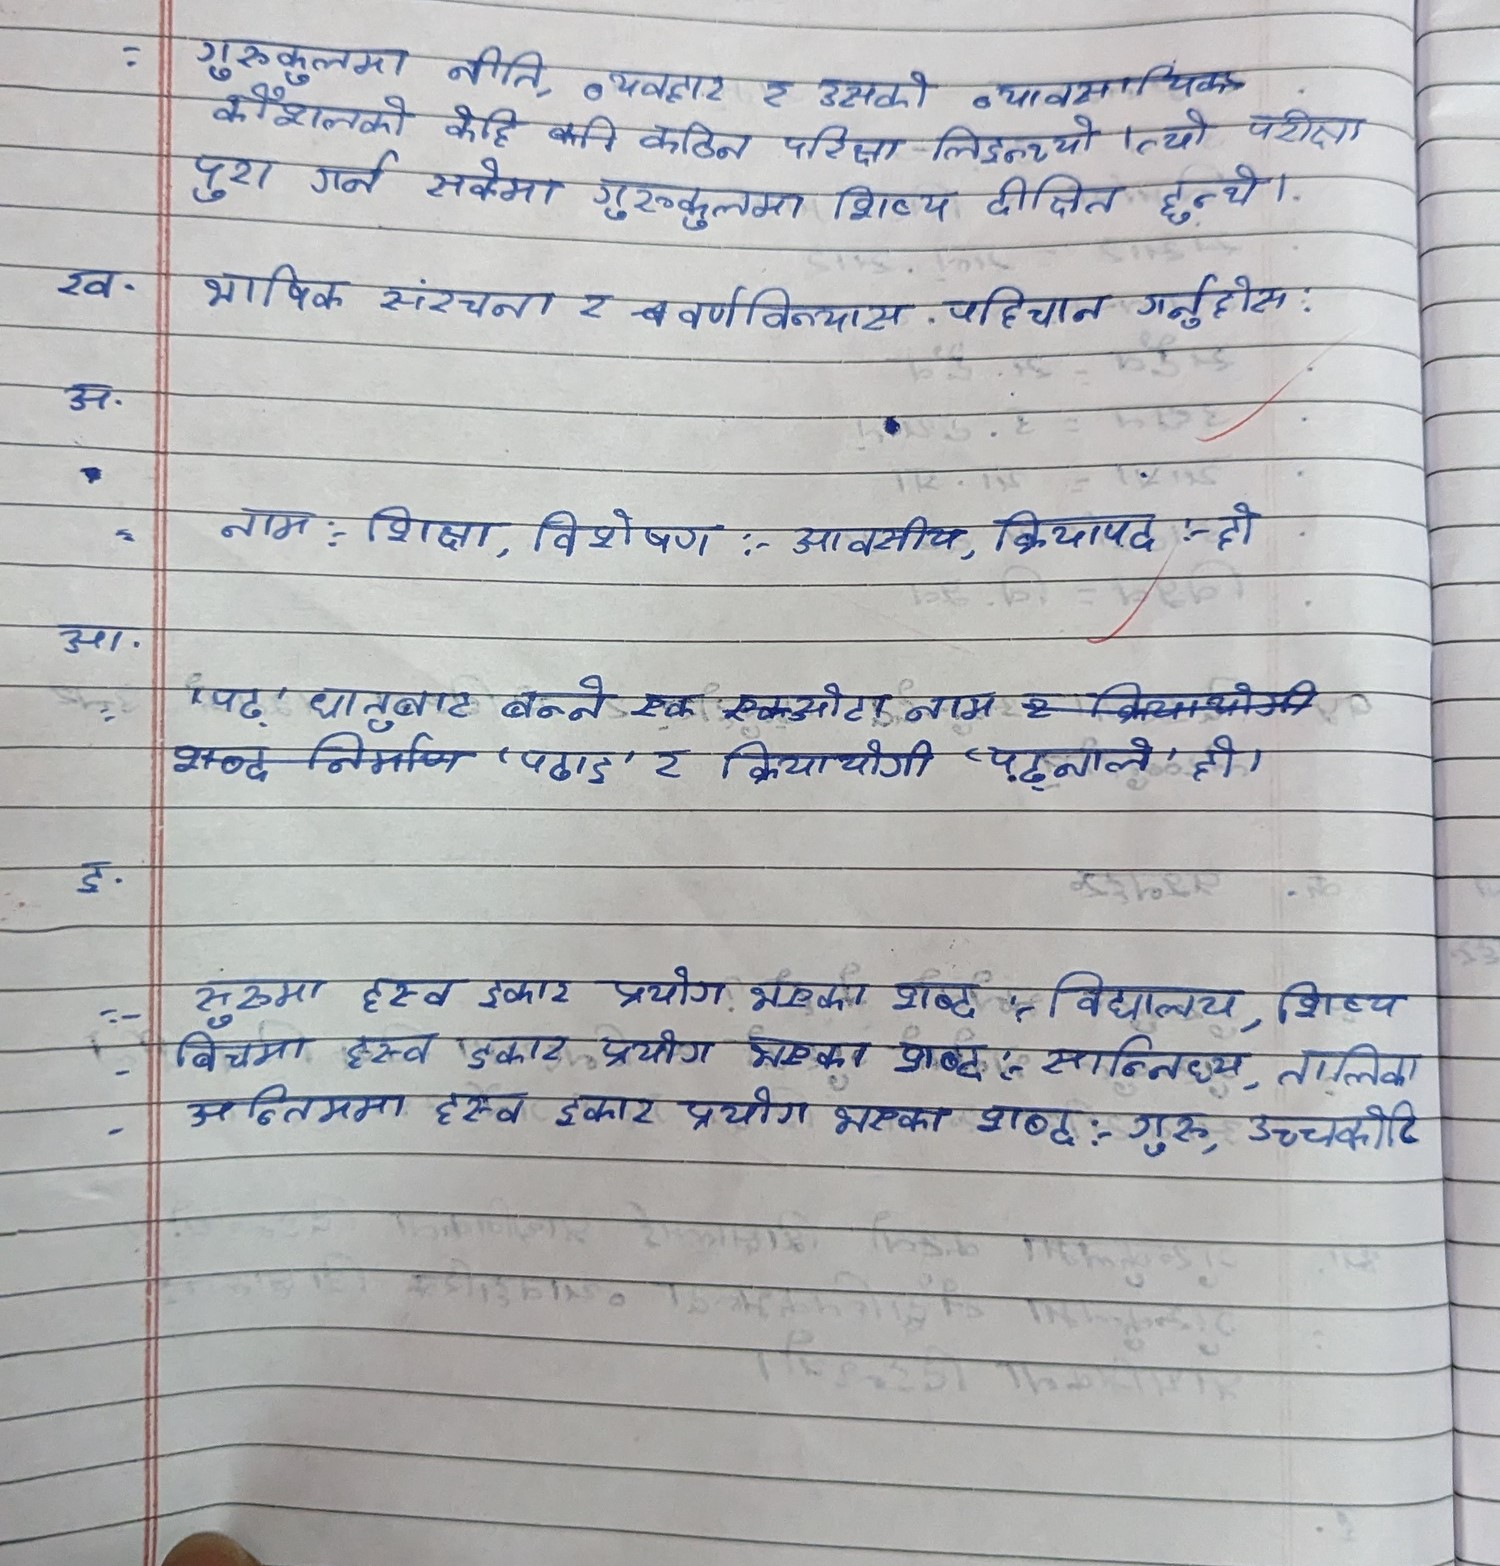text: (670, 274, 918, 338), (1033, 956, 1243, 1030), (180, 20, 426, 82), (587, 173, 807, 238), (959, 57, 1253, 105), (1076, 673, 1336, 721), (164, 951, 330, 1026), (717, 734, 946, 789), (531, 503, 719, 569), (369, 268, 561, 331), (214, 80, 407, 141), (193, 253, 351, 324), (986, 502, 1160, 565), (303, 671, 481, 733), (1036, 1035, 1247, 1085), (180, 1079, 410, 1126), (1241, 1098, 1427, 1154), (774, 508, 963, 561), (419, 150, 568, 217), (1137, 266, 1293, 329), (990, 733, 1158, 791), (925, 112, 1107, 165), (727, 671, 895, 728), (1261, 970, 1420, 1030), (1271, 1033, 1426, 1089), (678, 1088, 812, 1148), (941, 282, 1116, 329), (168, 1023, 315, 1077), (607, 956, 735, 1017), (309, 730, 468, 777), (963, 1096, 1086, 1158), (981, 171, 1130, 220), (598, 1015, 726, 1070), (1162, 162, 1267, 227), (741, 1029, 882, 1077), (1117, 1100, 1219, 1165), (811, 57, 931, 112), (544, 1089, 667, 1142), (823, 180, 960, 228), (187, 145, 288, 208), (496, 670, 610, 726), (1241, 105, 1378, 151), (783, 115, 906, 165), (886, 969, 987, 1030), (356, 508, 489, 554), (309, 148, 407, 210), (747, 968, 884, 1011), (828, 1091, 952, 1138), (162, 742, 287, 789), (583, 64, 728, 103), (514, 742, 621, 794), (644, 113, 756, 162), (447, 36, 542, 94), (903, 677, 1008, 728), (215, 499, 323, 549), (473, 973, 596, 1017), (334, 1022, 433, 1074), (889, 1037, 988, 1089), (463, 1030, 575, 1071), (432, 1086, 528, 1133), (351, 975, 454, 1015), (1137, 102, 1212, 155), (197, 667, 274, 719), (628, 680, 705, 730), (56, 612, 136, 656), (447, 101, 519, 148), (1213, 494, 1267, 555), (50, 254, 116, 303), (66, 847, 126, 898), (1185, 733, 1237, 789), (60, 369, 119, 417), (756, 62, 798, 113), (569, 282, 616, 326), (646, 747, 700, 783), (1018, 682, 1061, 726)
